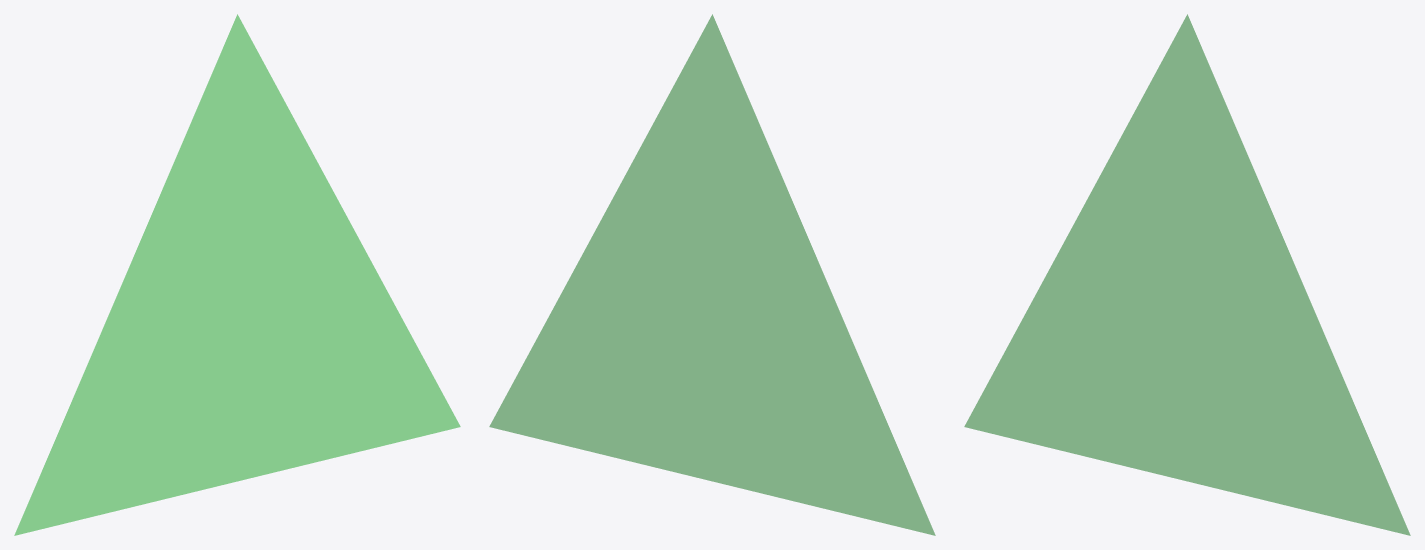
The model's file is transparent.glb.
3 renders of one model, left to right at view 1: azimuth 30°, elevation 25°; view 2: azimuth 150°, elevation 25°; view 3: azimuth 330°, elevation 25°, orthographic.
Bounding box in the file's own units: 40 × 40 × 0.
1 material, 1 textured.
